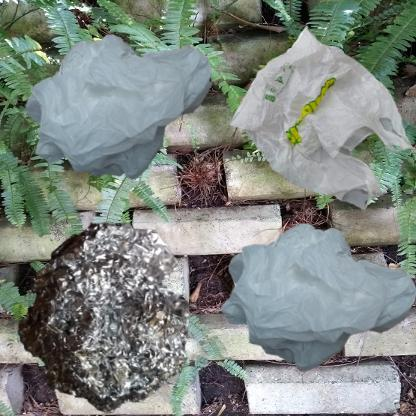aluminio: (10, 213, 200, 416)
bolsa: (10, 10, 252, 217), (213, 10, 416, 236), (213, 213, 416, 392)
